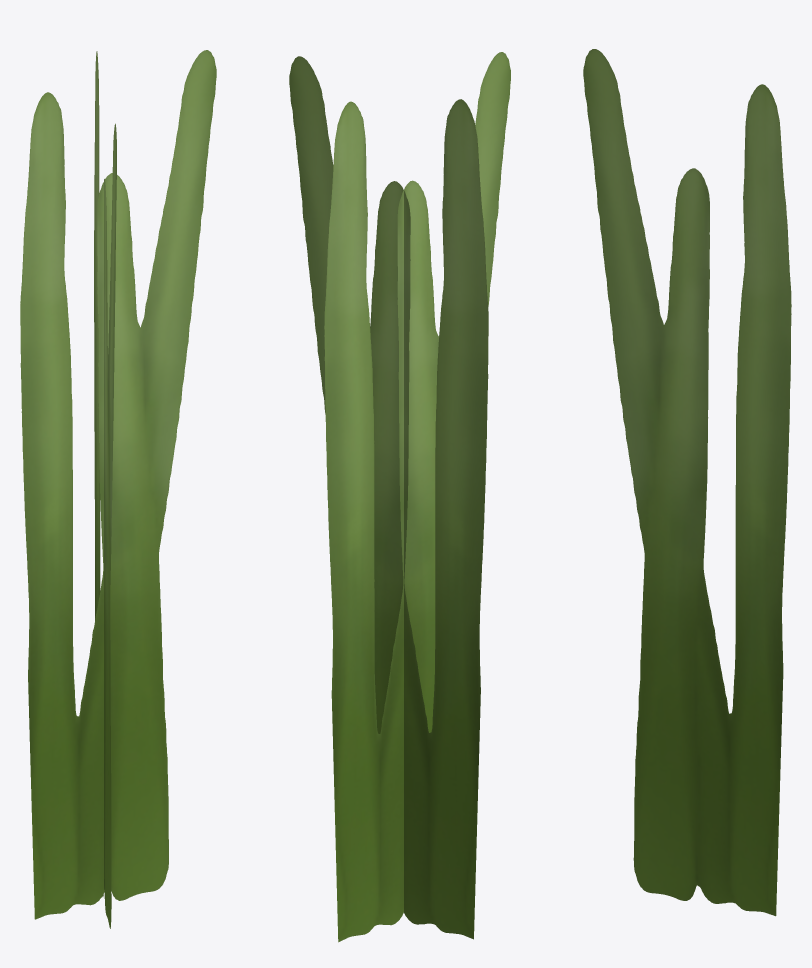
Rendered from grass 3.fbx.
The picture shows the model from 3 angles, left to right: view 1: azimuth 30°, elevation 25°; view 2: azimuth 150°, elevation 25°; view 3: azimuth 270°, elevation 25°; orthographic projection.
Parts seen in each view (by area): view 1: grass 3; view 2: grass 3; view 3: grass 3.
Part boxes in pixels (bbox=[...]): grass 3: bbox=[20, 50, 216, 928]; grass 3: bbox=[289, 52, 510, 942]; grass 3: bbox=[583, 49, 791, 916].
Bounding box in the file's own units: 17.21 × 63.7 × 15.7.
